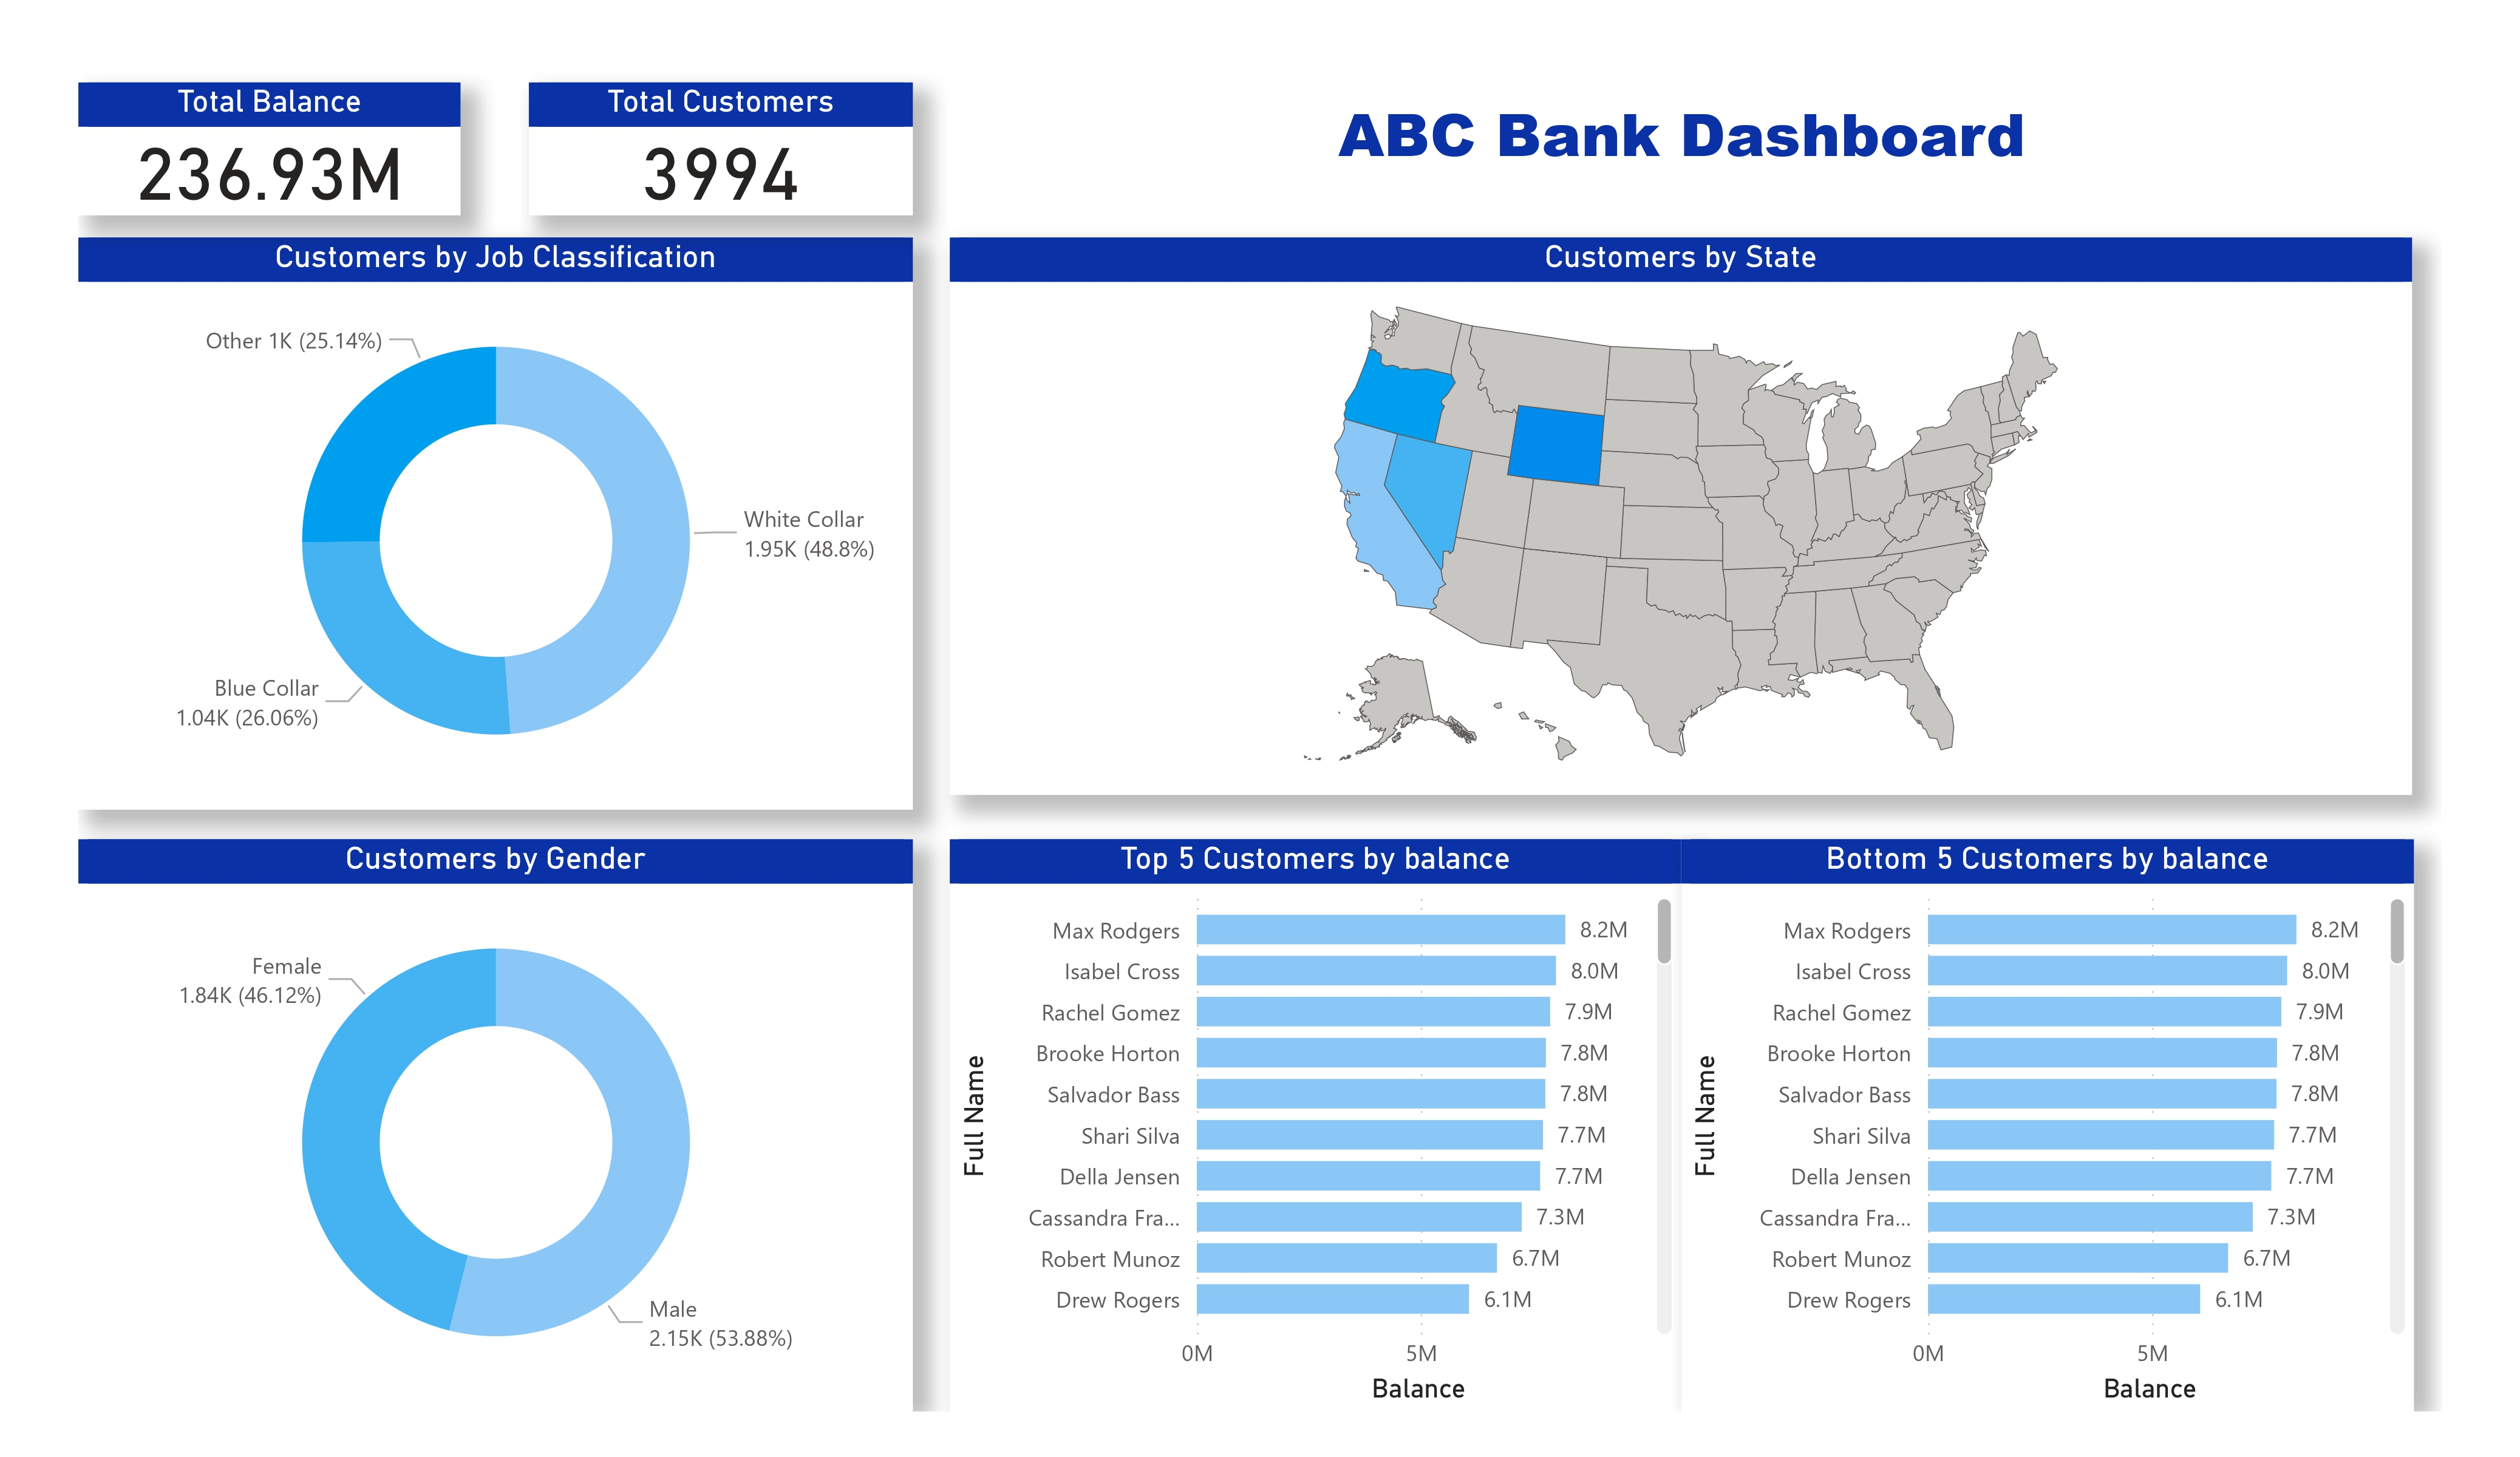

This screenshot's page, from the dashboard's own definition file:
{"tool":"powerbi","page":{"name":"Banking Report","canvas":[1280,720],"ordinal":0},"visuals":[{"type":"donutChart","title":"Customers by Job Classification","fields":{"Category":["AmericaBank.Job Classification"],"Y":["CountNonNull(AmericaBank.Job Classification)"]},"box":[0,84.2,452.4,309.6],"z":0},{"type":"donutChart","title":"Customers by Gender","fields":{"Category":["AmericaBank.Gender"],"Y":["CountNonNull(AmericaBank.Job Classification)"]},"box":[0,410.4,452.4,309.6],"z":1000},{"type":"shapeMap","title":"Customers by State","fields":{"Category":["AmericaBank.State"],"Series":["AmericaBank.StateCountry"],"Value":["CountNonNull(AmericaBank.Full Name)"]},"box":[472,84.2,792.2,302.1],"z":2000},{"type":"barChart","title":"Top  5 Customers by balance","fields":{"Category":["AmericaBank.Full Name"],"Y":["Sum(AmericaBank.Balance)"]},"box":[472,409.9,396.4,310.8],"z":3000},{"type":"barChart","title":"Bottom 5 Customers by balance","fields":{"Category":["AmericaBank.Full Name"],"Y":["Sum(AmericaBank.Balance)"]},"box":[868.5,409.9,396.4,310.8],"z":4000},{"type":"card","title":"Total Balance","fields":{"Values":["Sum(AmericaBank.Balance)"]},"box":[0,0,206.6,72.2],"z":5000},{"type":"card","title":"Total Customers","fields":{"Values":["CountNonNull(AmericaBank.Full Name)"]},"box":[243.6,0,208.3,72.2],"z":6000},{"type":"textbox","box":[472,0,792.9,72.2],"z":7000}]}

Visuals, with their boxes in screenshot pixels (x1, y1, x2, y2):
"Customers by Job Classification" donutChart: 59, 269, 906, 849
"Customers by Gender" donutChart: 59, 880, 906, 1456
"Customers by State" shapeMap: 943, 269, 2426, 835
"Top  5 Customers by balance" barChart: 943, 879, 1685, 1456
"Bottom 5 Customers by balance" barChart: 1686, 879, 2428, 1456
"Total Balance" card: 59, 112, 446, 246
"Total Customers" card: 516, 112, 905, 246
textbox: 943, 112, 2428, 246
